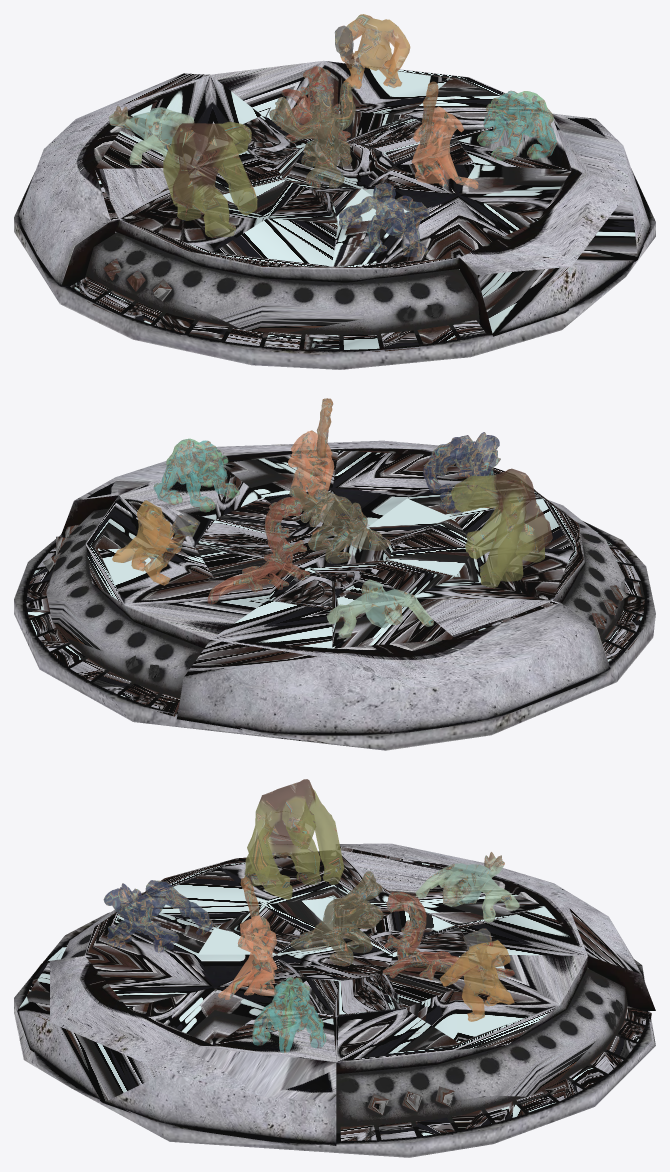
Rendered from dejarik.glb.
The picture shows the model from 3 angles, top to bottom: view 1: azimuth 30°, elevation 25°; view 2: azimuth 150°, elevation 25°; view 3: azimuth 270°, elevation 25°; orthographic projection.
Parts seen in each view (by area): view 1: defaultMaterial (×2); view 2: defaultMaterial (×2); view 3: defaultMaterial (×2).
Boxes of the visible parts, x1,y1,x2,y2 form: defaultMaterial (×2): (14,14,655,369); defaultMaterial (×2): (14,398,655,750); defaultMaterial (×2): (14,779,655,1157).
Bounding box in the file's own units: 1.6 × 0.4742 × 1.59.
2 materials, 2 textured.
